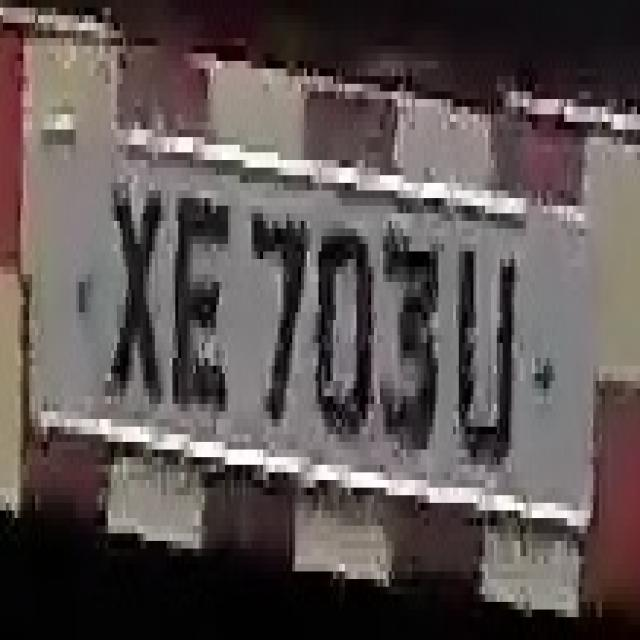0: (307, 198, 380, 457)
3: (368, 213, 441, 488)
7: (245, 190, 307, 450)
E: (161, 175, 228, 457)
U: (450, 221, 532, 503)
X: (108, 130, 161, 464)
